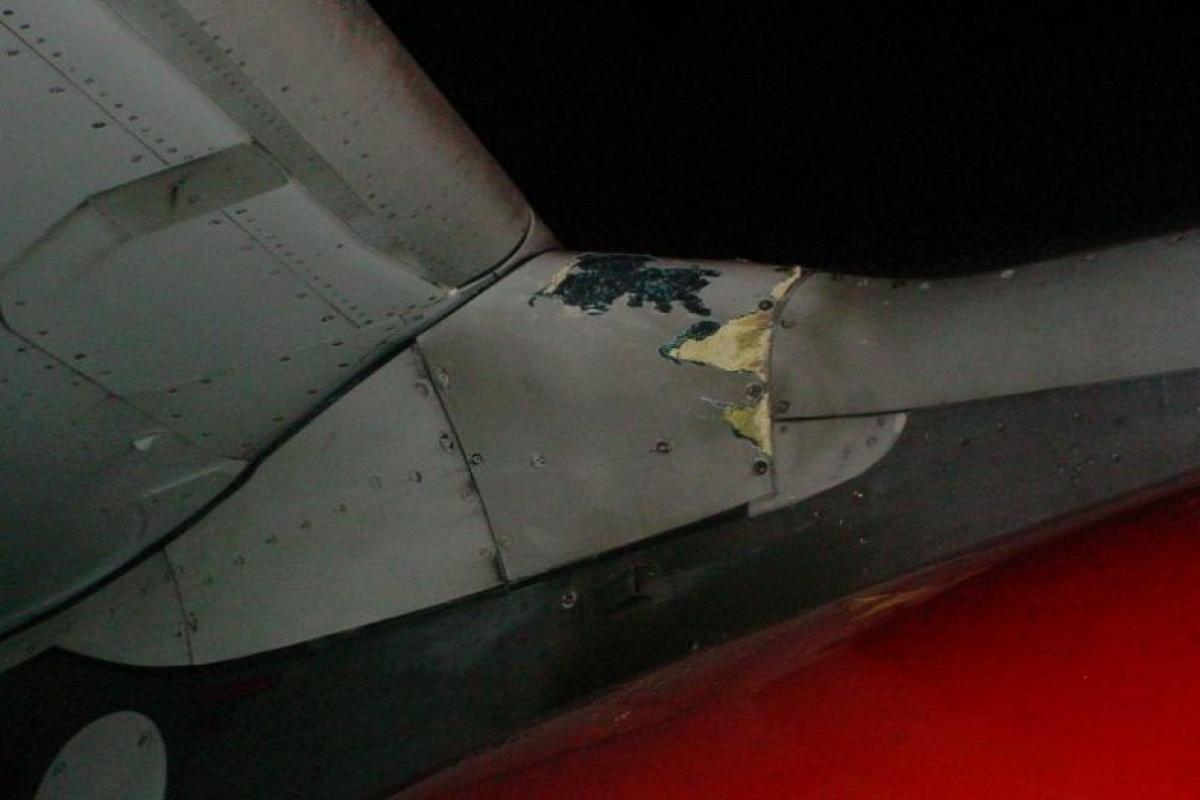Fuselage_damage: (654, 266, 810, 385), (526, 253, 724, 316), (702, 392, 775, 466)
